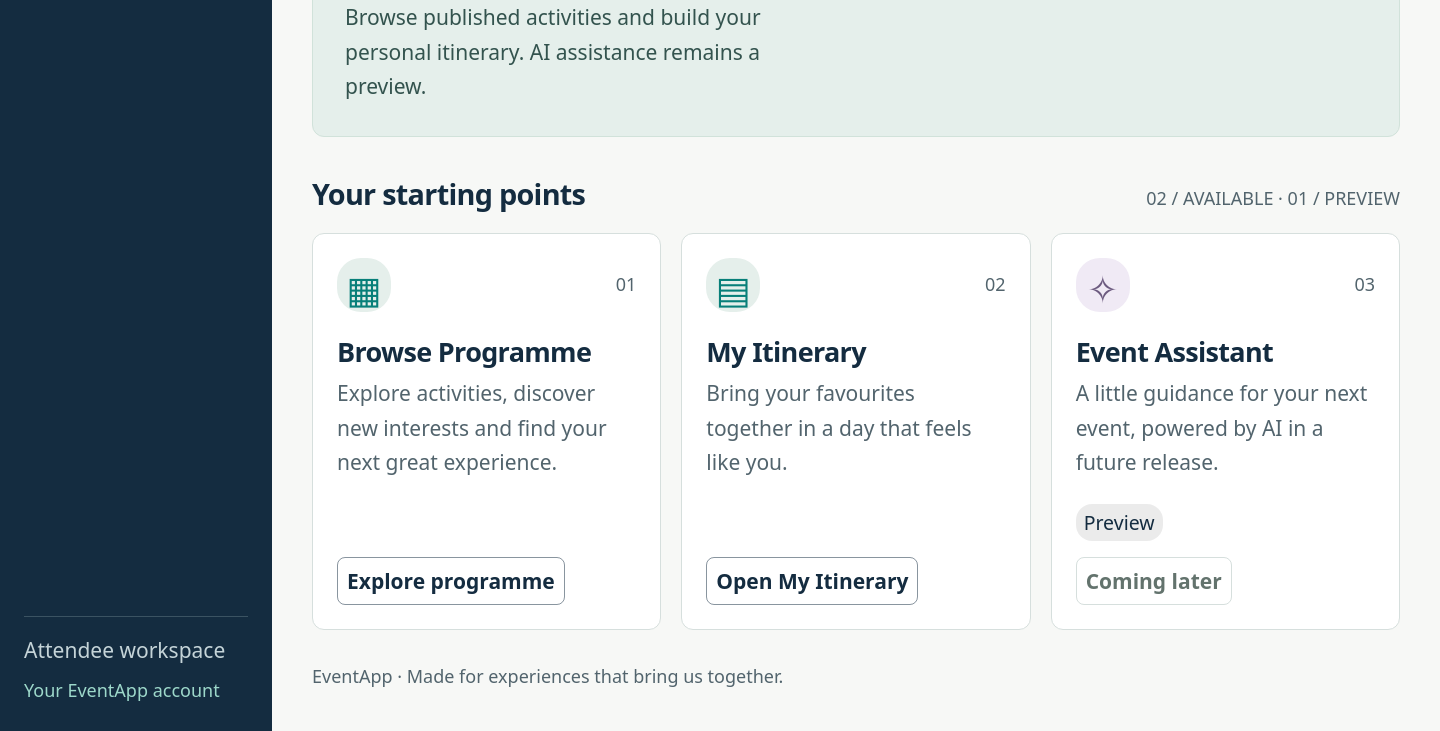
it: F02-UI01 My Itinerary is an enabled keyboard-accessible entry to published events
The image size is (1440, 731).
(page scrolled)
Expected: the link "Open My Itinerary" is enabled, [706,557,918,605]
Press Enter
(page scrolled)
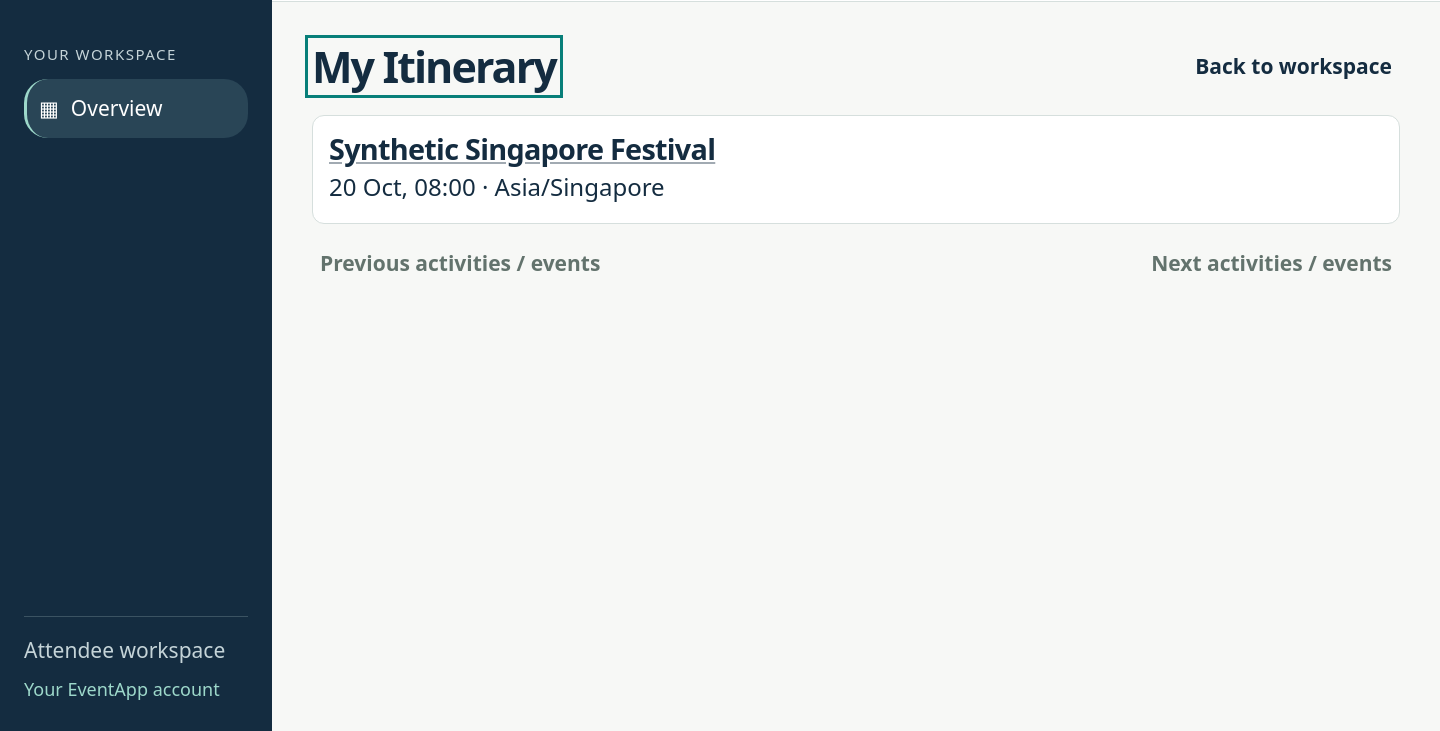
Click the link "Synthetic Singapore Festival". click: x=522, y=149
box: [329,129,715,168]
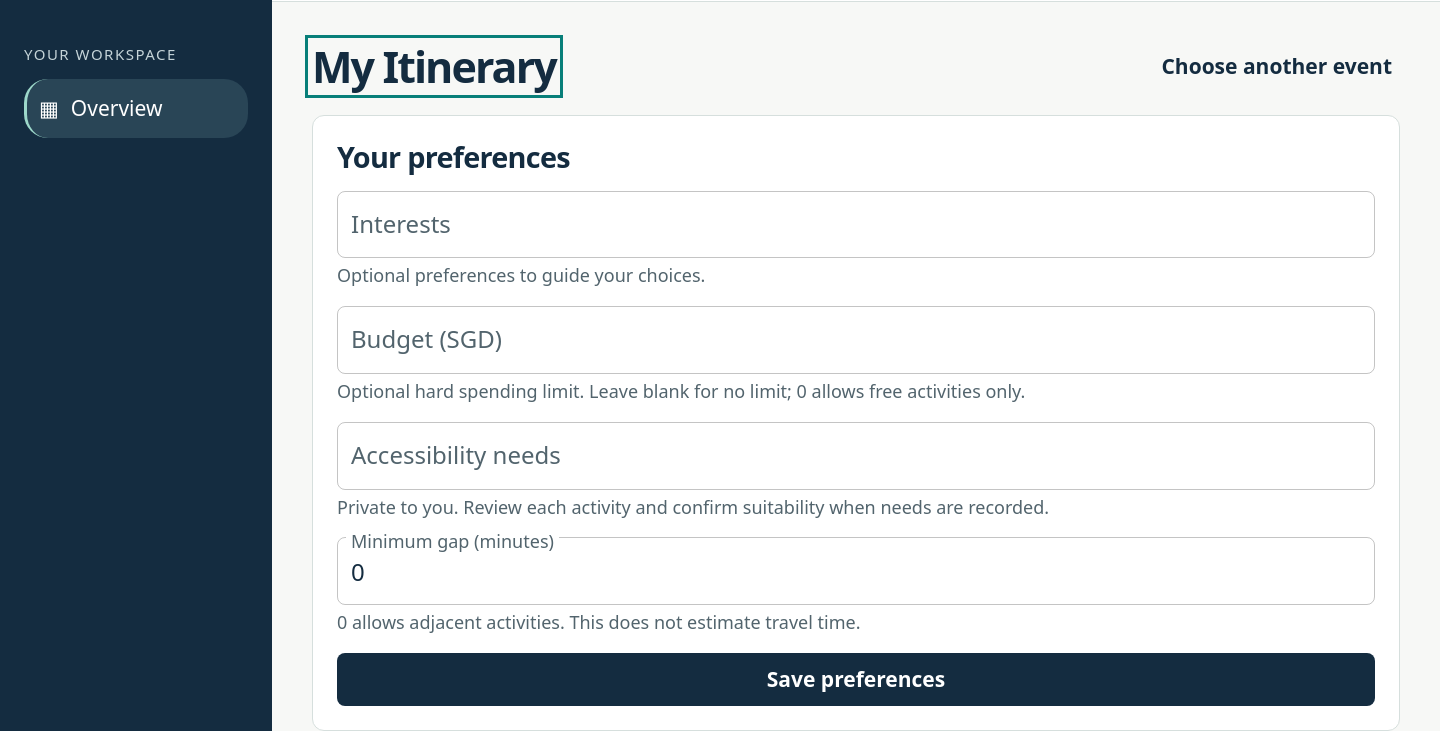
Expected: the button "Save preferences" is shown, [337,653,1375,706]
